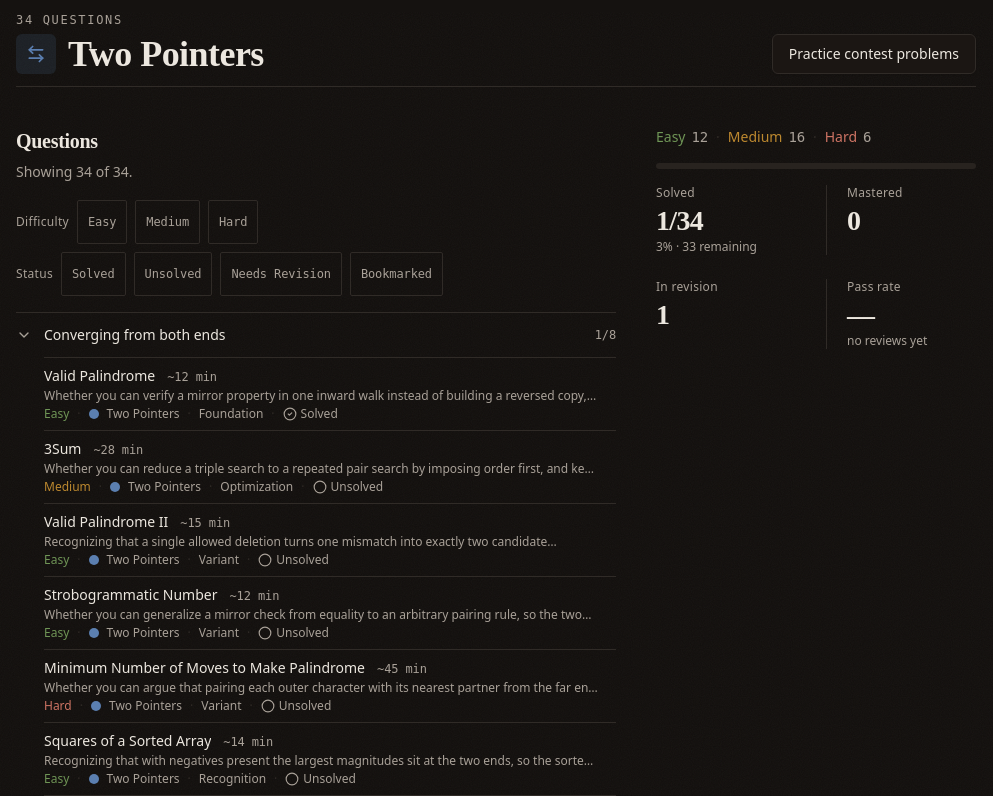
PatternDetailPage › filters that match nothing show the empty state instead of an empty list
# "Bookmarked" AND nothing bookmarked: an intersection this page can legitimately empty.
Click the button "Bookmarked" at (396, 274), box [350,252,443,296]
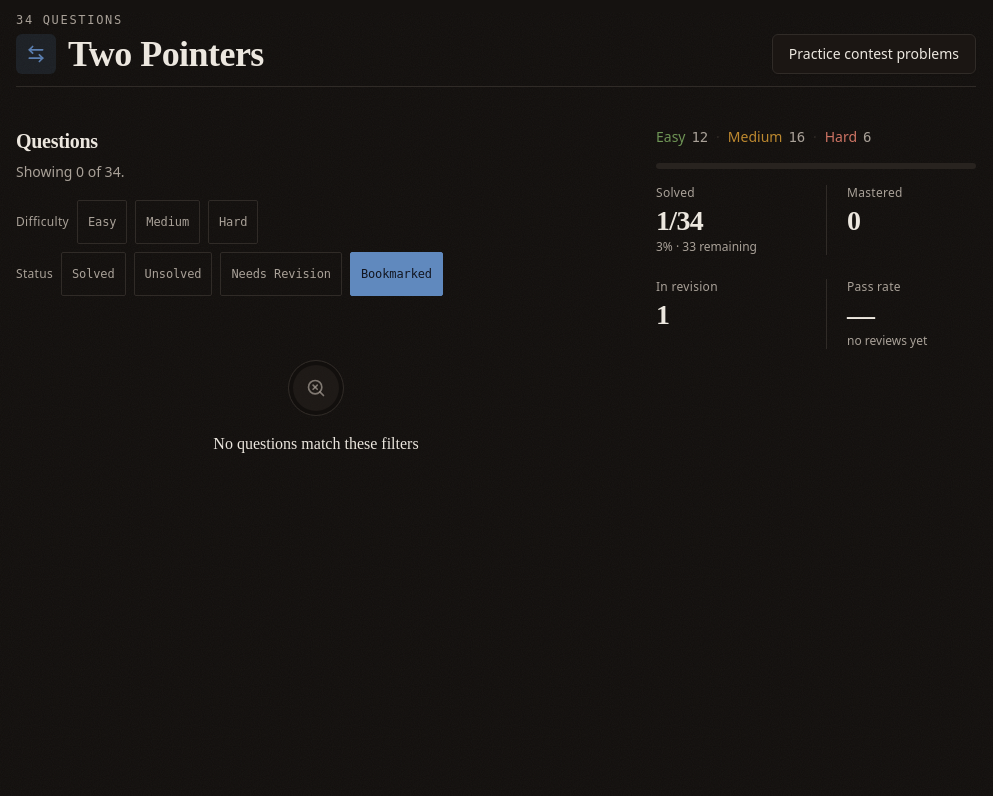
Expected: the text "No questions match these filters" is shown, [213,432,419,456]
